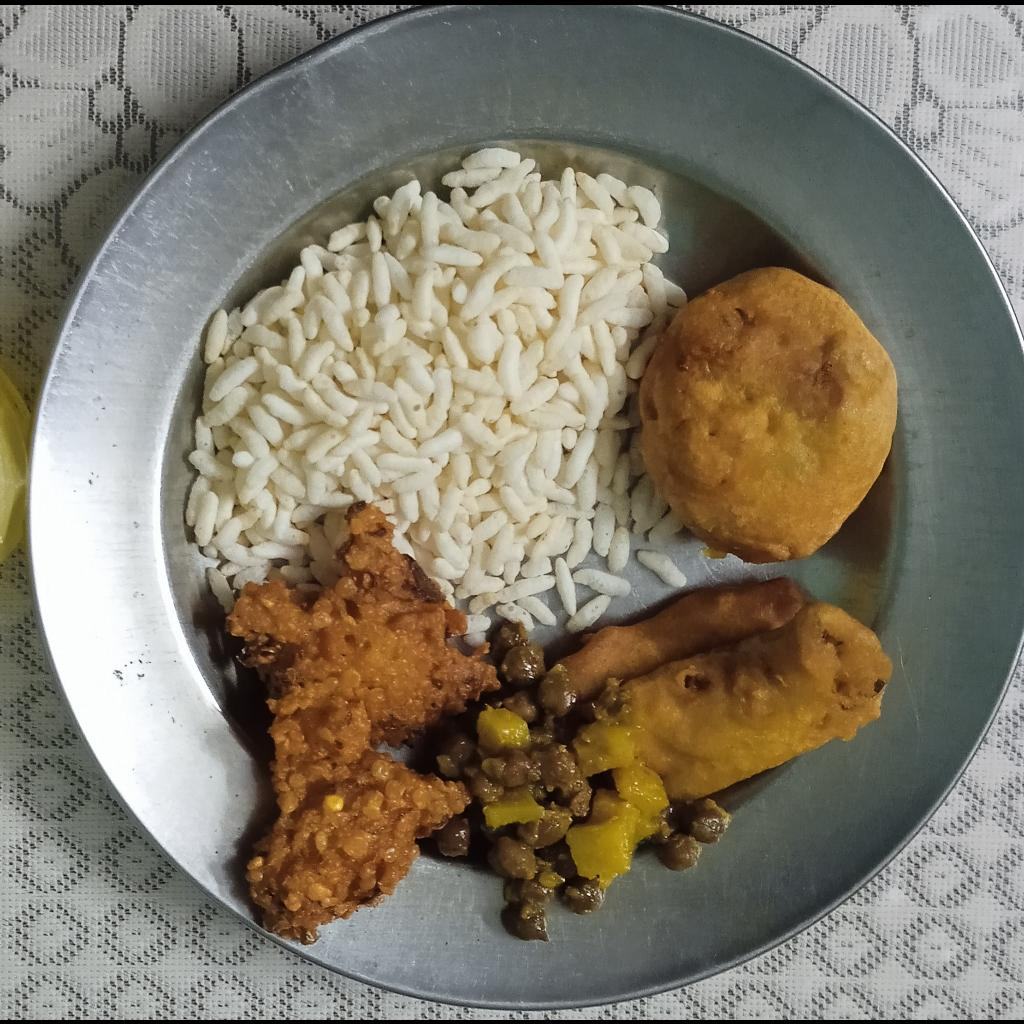beguni: (562, 573, 890, 805)
chola: (437, 619, 734, 946)
chop-alu: (643, 266, 898, 566)
piyaju: (227, 500, 500, 945)
puffed-rice: (183, 149, 691, 636)
